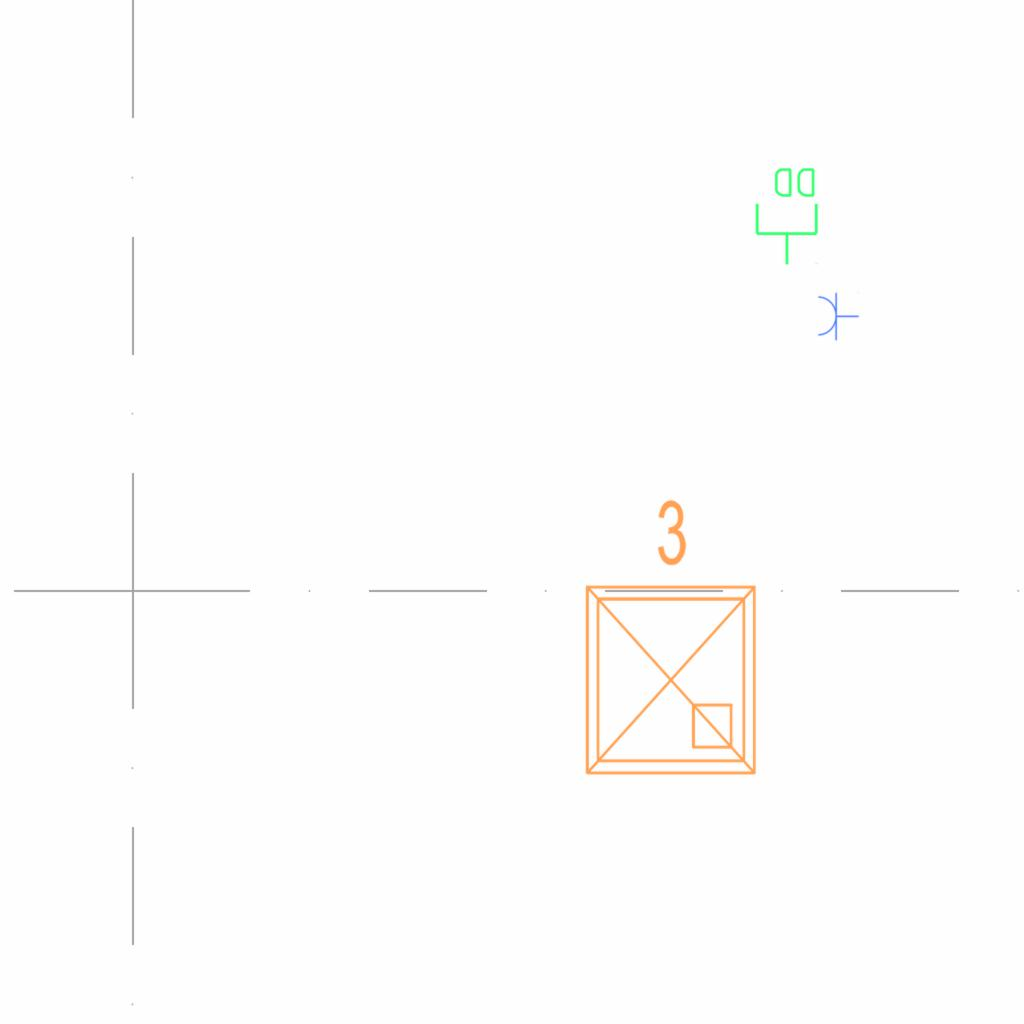Datenanschluss_zweifach: (753, 164, 822, 267)
Einbaudownlights_LED_Konferenzraeume: (563, 489, 771, 789)
Schukosteckdose_einfach: (816, 291, 859, 341)
